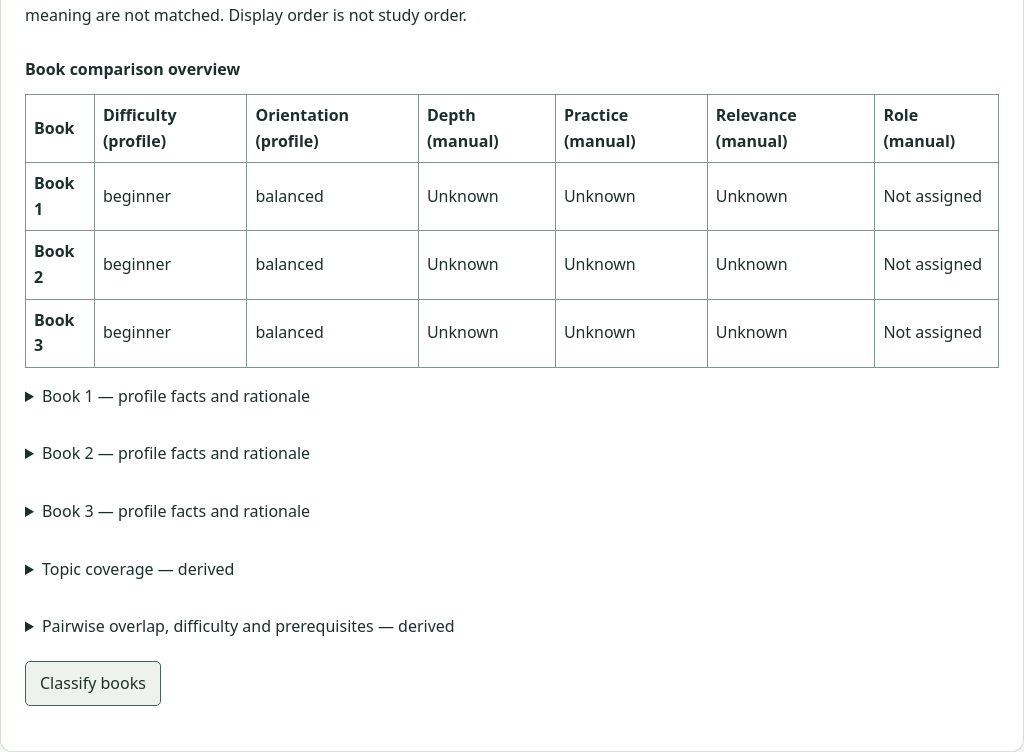
Scenario: renders facts with matching limitations and unknown prerequisites
(page scrolled)
Expected: the table "Book comparison overview" is shown, [25,44,999,368]
Click the heading "Pairwise overlap, difficulty and prerequisites — derived": click(248, 626) [42,615,455,637]
(page scrolled)
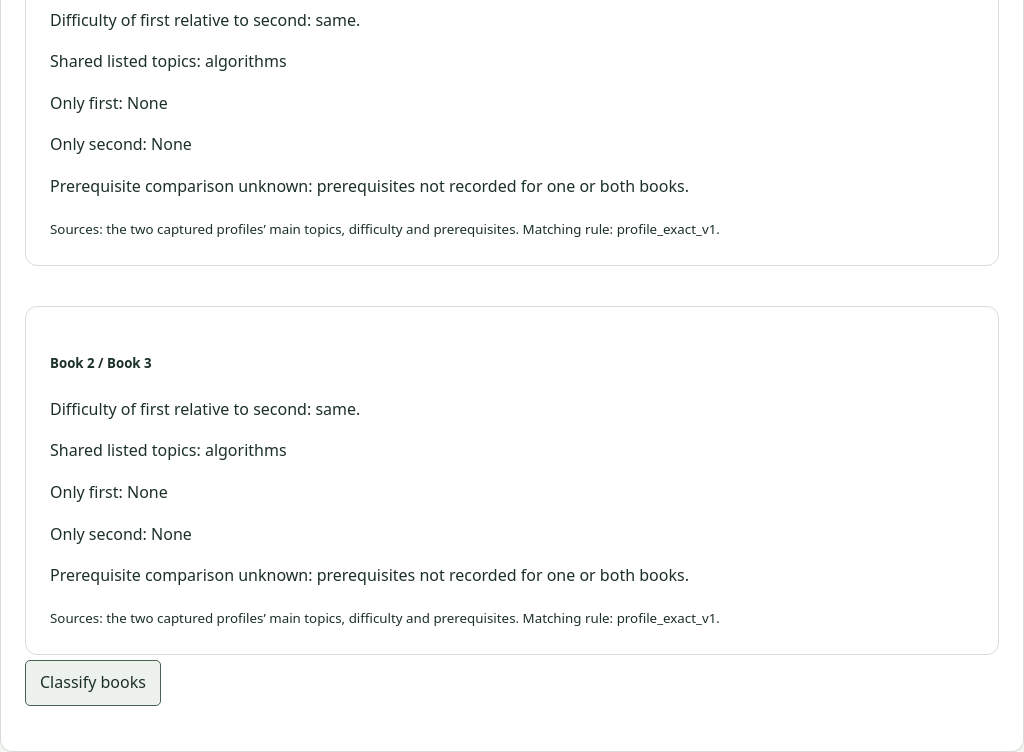
Expected: the button "Classify books" is enabled, [25,660,161,706]
Expected: the text "Prerequisite comparison unknown" is shown 3 times
